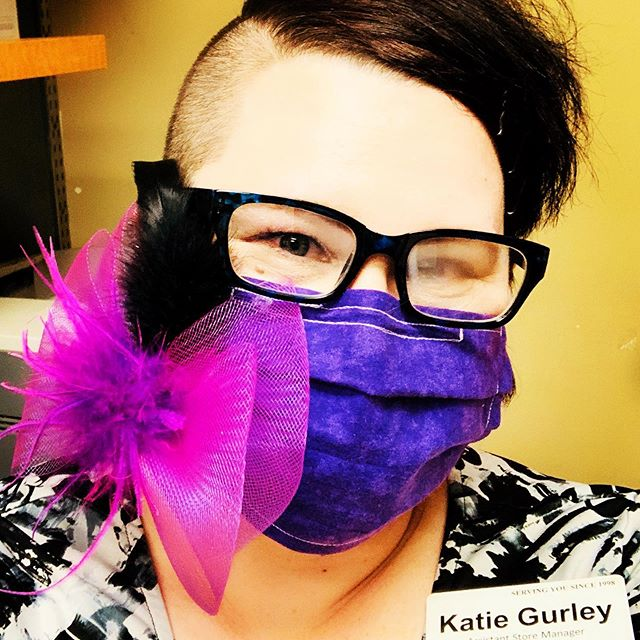homemade: (158, 261, 503, 556)
